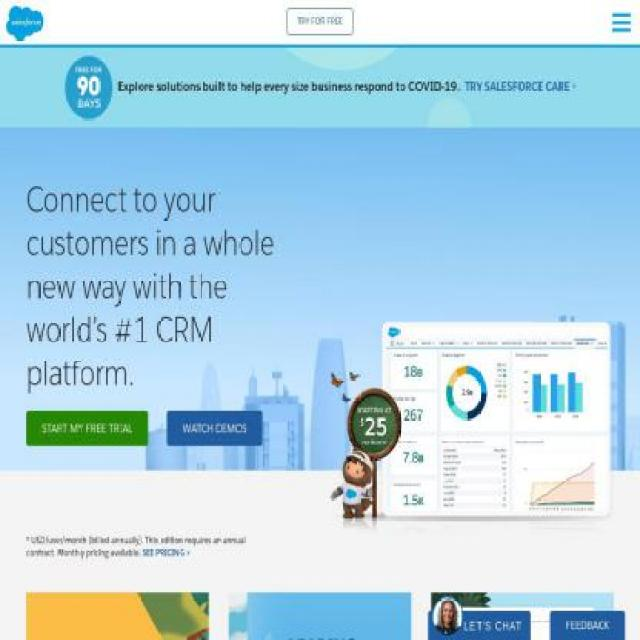button: (26, 411, 148, 446), (167, 411, 262, 446), (428, 611, 532, 638), (0, 0, 45, 48), (550, 611, 625, 638), (287, 8, 353, 35), (606, 0, 640, 46)
